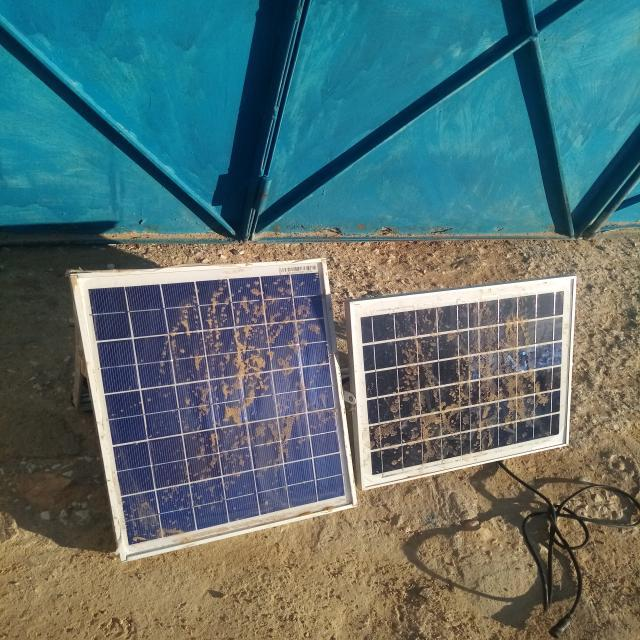faulty: (73, 258, 359, 562), (349, 277, 576, 489)
